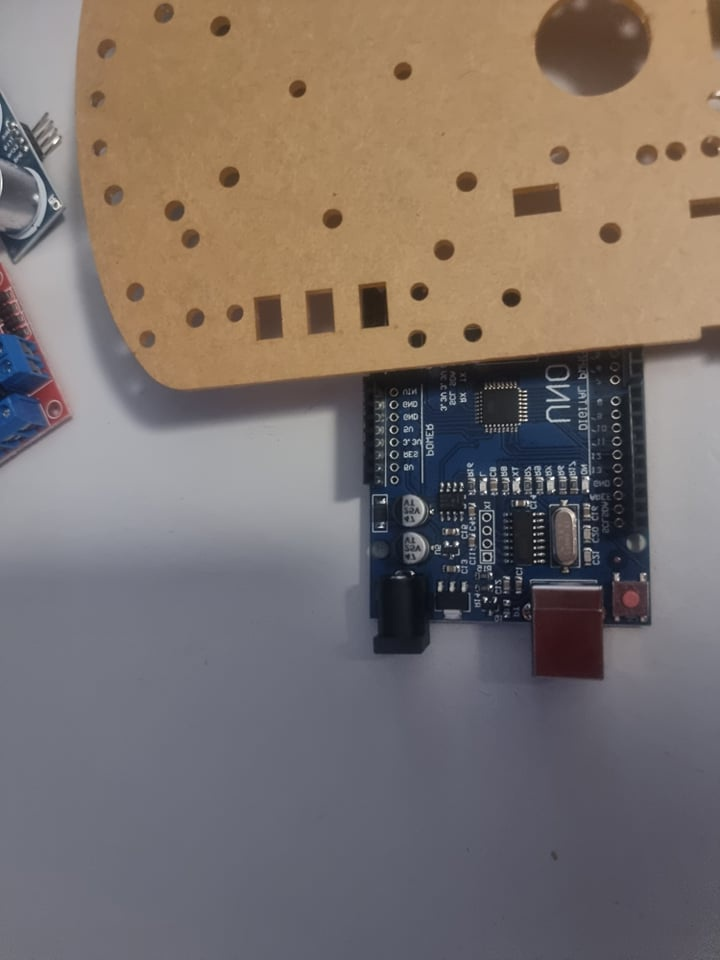UNO R3: (338, 354, 653, 689)
